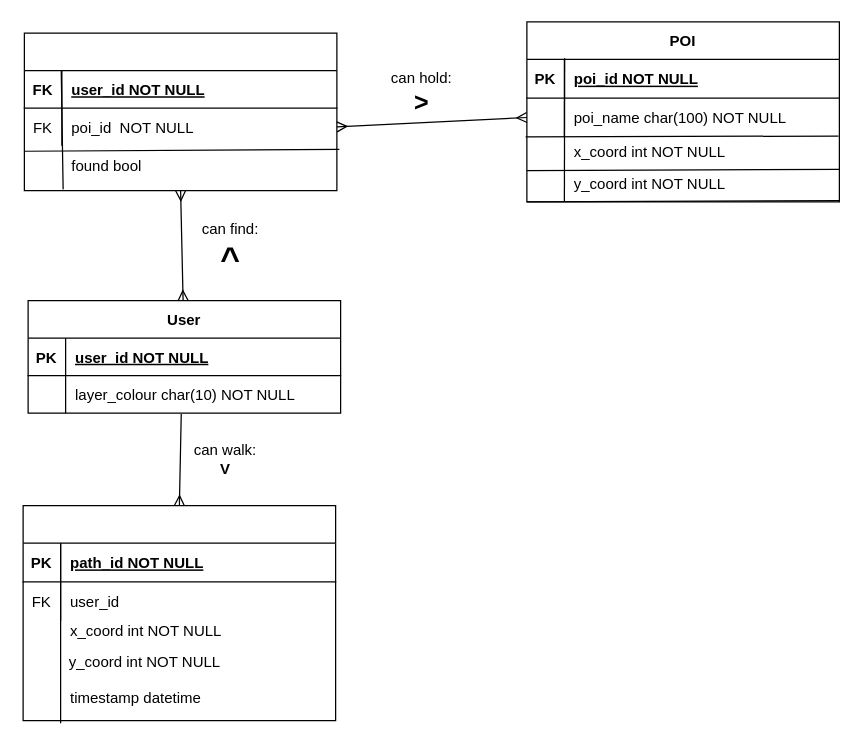
This 863x746 diagram has some shape labels left out. The shapes that lost their labels are listed below. From the top down, each one's box as (x1, y1, x2, y2) in pixels, then its label:
(23, 32, 337, 191): User_POI
(22, 504, 336, 721): User_Path
